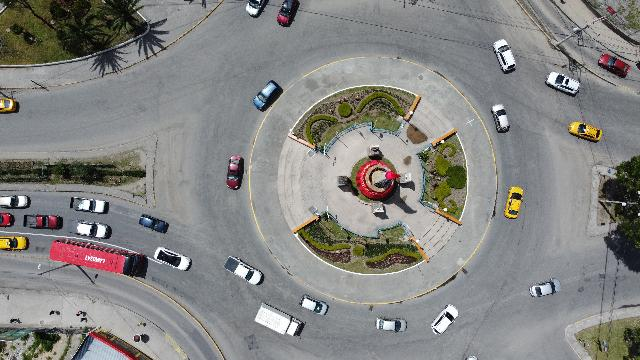Vehiculo: (224, 256, 262, 286), (154, 247, 192, 271), (67, 219, 111, 239), (430, 304, 458, 335), (492, 39, 516, 73), (546, 72, 580, 96), (253, 80, 279, 110), (598, 54, 630, 78), (568, 122, 602, 142), (70, 197, 108, 214), (504, 187, 524, 219), (529, 278, 561, 298), (23, 214, 62, 230), (300, 294, 328, 316), (226, 155, 244, 189), (277, 0, 299, 26), (140, 214, 168, 234), (491, 104, 509, 132), (0, 194, 30, 210), (376, 318, 406, 332), (0, 236, 28, 251), (246, 0, 266, 16), (1, 98, 18, 112), (0, 213, 14, 227)
